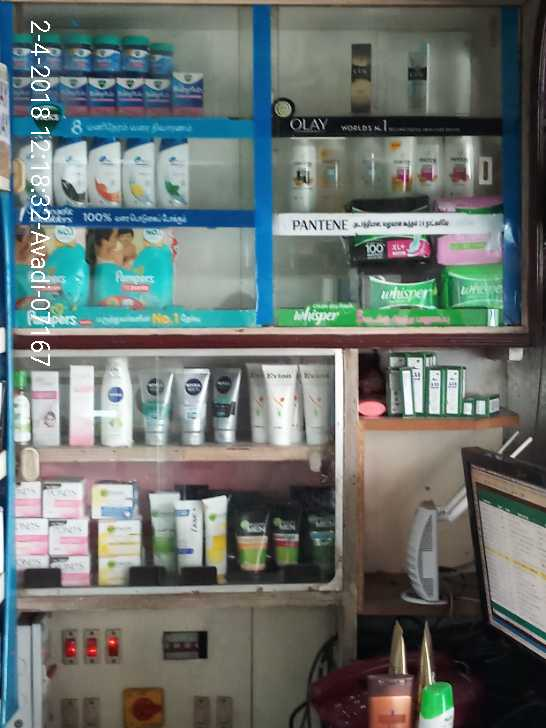vicks: (12, 24, 207, 111)
